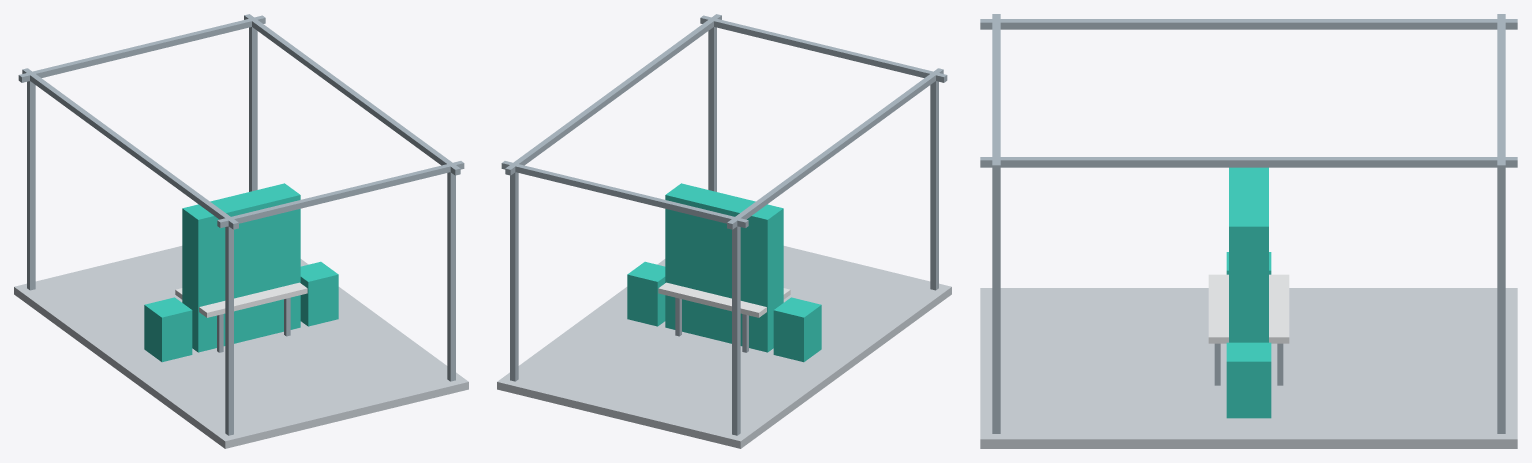
3 renders of one model, left to right at view 1: azimuth 30°, elevation 25°; view 2: azimuth 150°, elevation 25°; view 3: azimuth 270°, elevation 25°, orthographic. The views are drawn at different scales.
Parts seen in each view (by area): view 1: Exhibition Booth Concept; view 2: Exhibition Booth Concept; view 3: Exhibition Booth Concept.
Part boxes in pixels (x1,y1,x2,y2): Exhibition Booth Concept: [14, 14, 468, 448]; Exhibition Booth Concept: [497, 14, 951, 448]; Exhibition Booth Concept: [980, 14, 1517, 448].
Bounding box in the file's own units: 4 × 3.49 × 6.
